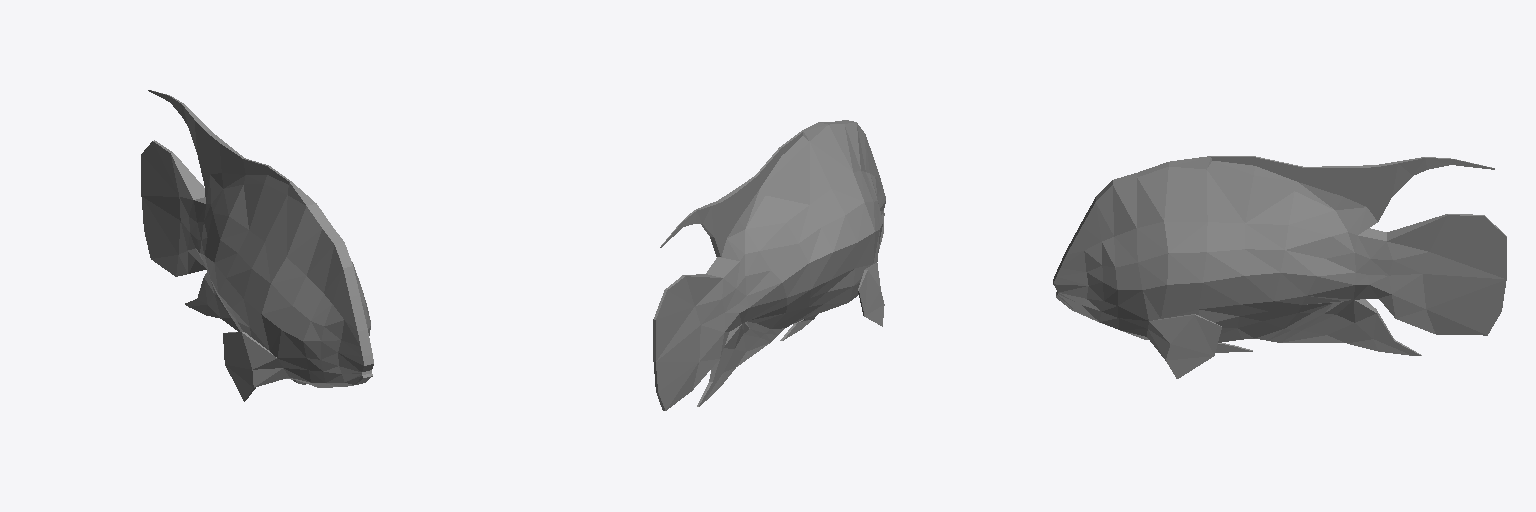
File: TropicalFish06.obj
The picture shows the model from 3 angles: view 1: azimuth 30°, elevation 25°; view 2: azimuth 150°, elevation 25°; view 3: azimuth 270°, elevation 25°; orthographic projection.
Parts seen in each view (by area): view 1: TropicalFish06; view 2: TropicalFish06; view 3: TropicalFish06.
Part boxes in pixels (x1,y1,x2,y2): TropicalFish06: (141,90,373,401); TropicalFish06: (653,120,885,410); TropicalFish06: (1053,156,1506,378).
Size of the model in its own units: 153 by 228 by 471.